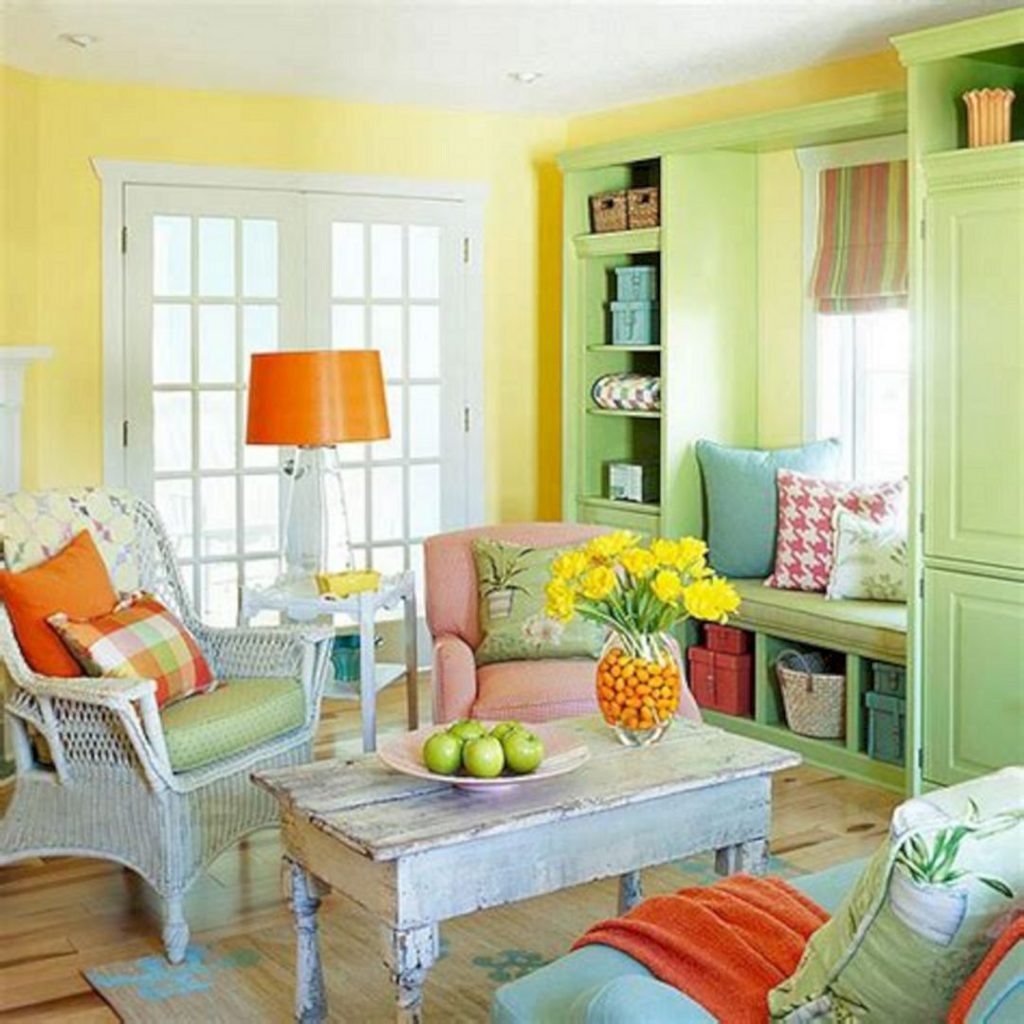biru: (696, 440, 783, 581)
hijau: (427, 717, 533, 775)
orange: (608, 844, 817, 961), (239, 349, 391, 448), (3, 534, 122, 636)
pink: (425, 527, 598, 717)
